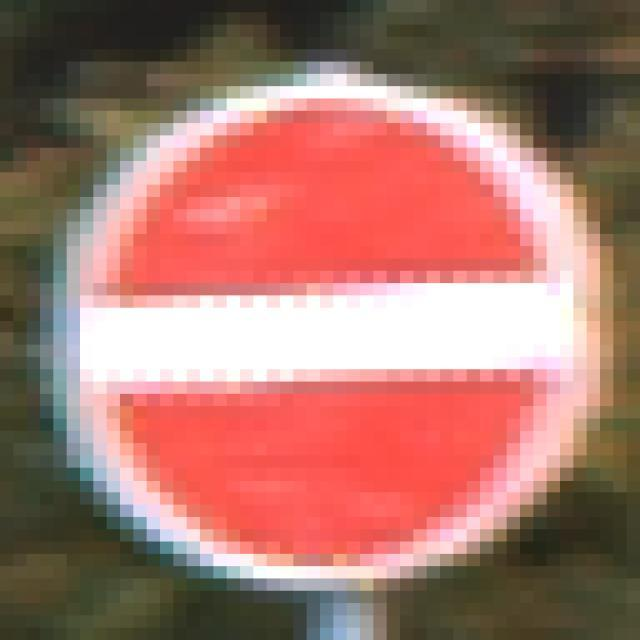no entry: (20, 68, 620, 591)
